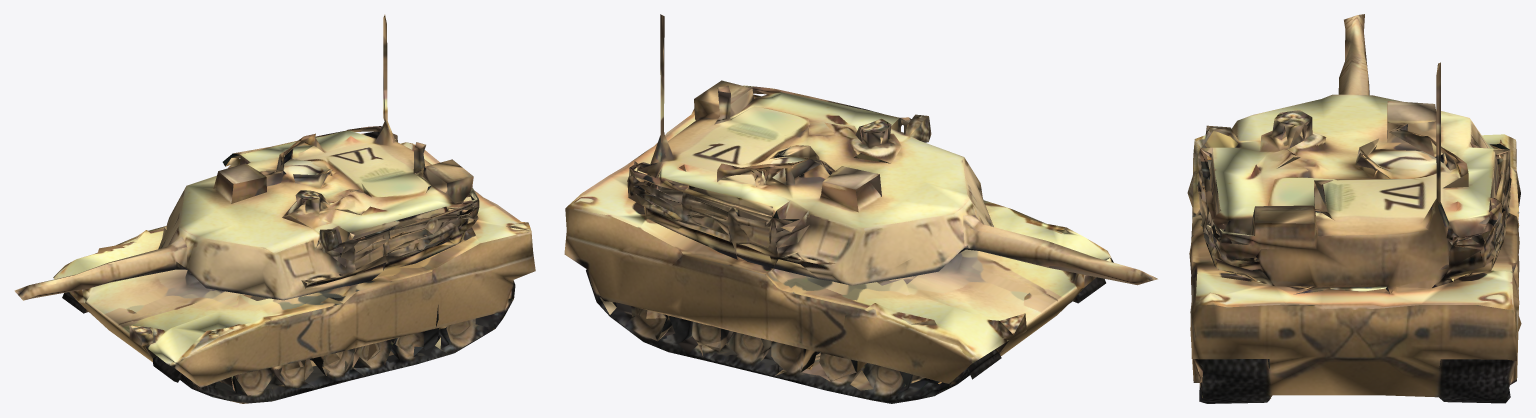
The model's file is abrams.glb.
3 renders of one model, left to right at view 1: azimuth 30°, elevation 25°; view 2: azimuth 150°, elevation 25°; view 3: azimuth 270°, elevation 25°, orthographic. The views are drawn at different scales.
Visible parts, largest first — view 1: tmpw2nr28bn.ply; view 2: tmpw2nr28bn.ply; view 3: tmpw2nr28bn.ply.
Part boxes in pixels (x1,y1,x2,y2): tmpw2nr28bn.ply: (14, 14, 535, 403); tmpw2nr28bn.ply: (564, 14, 1157, 403); tmpw2nr28bn.ply: (1187, 14, 1521, 403).
Size of the model in its own units: 1.96 by 1.11 by 0.9554.
Materials: 1 (1 with a texture image).
